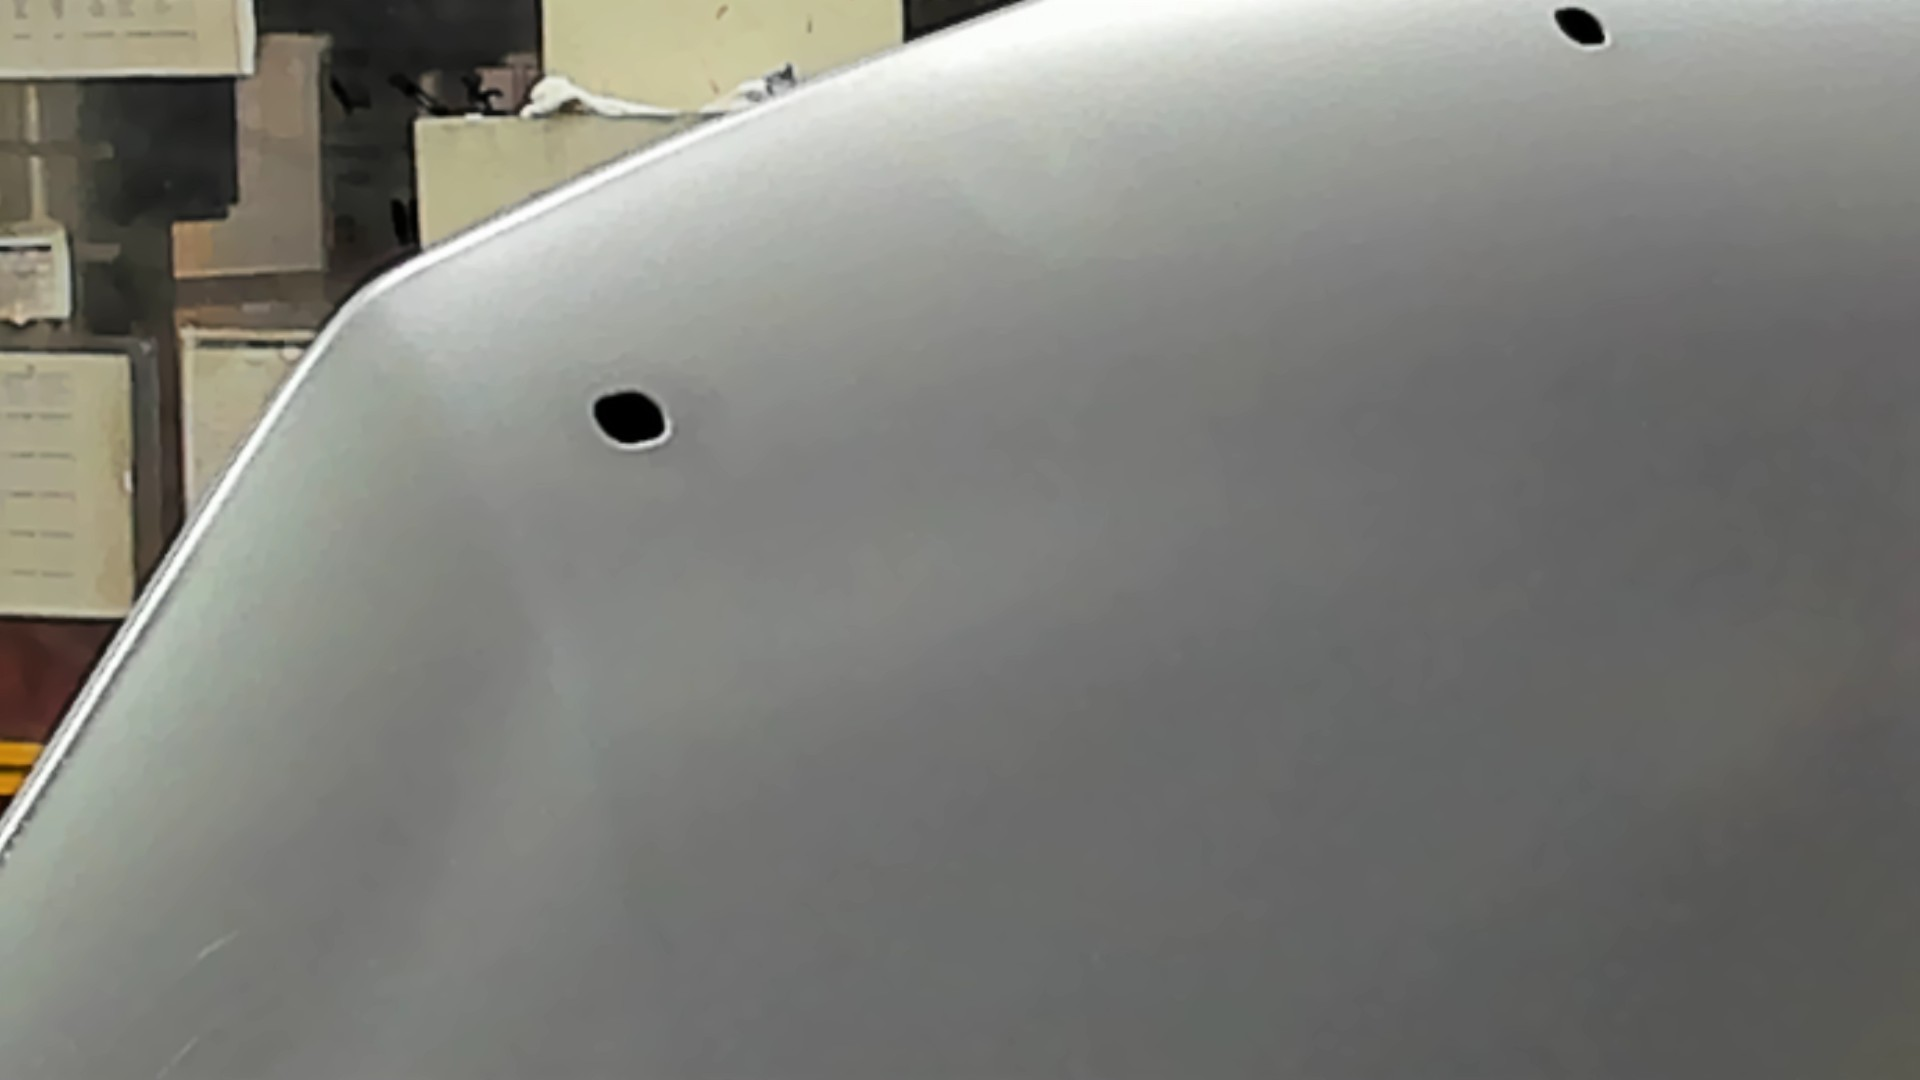amorfo: (582, 378, 680, 458), (1542, 1, 1619, 54)
capo: (785, 152, 1920, 1080)
